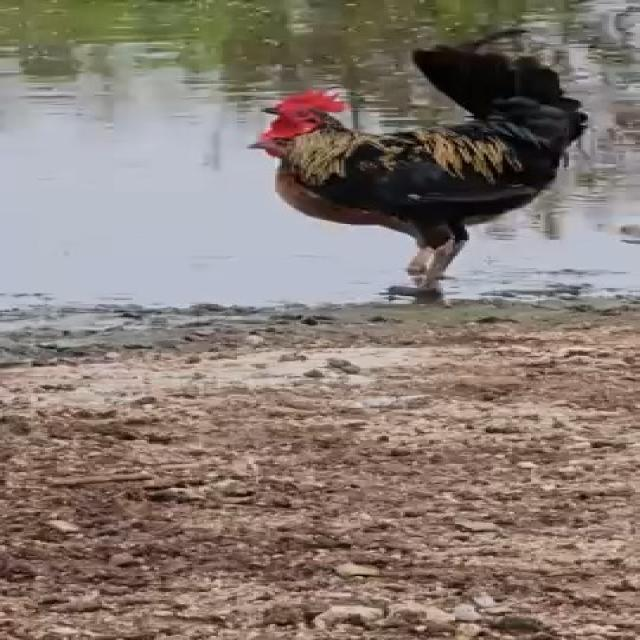drinking: (244, 40, 572, 305)
